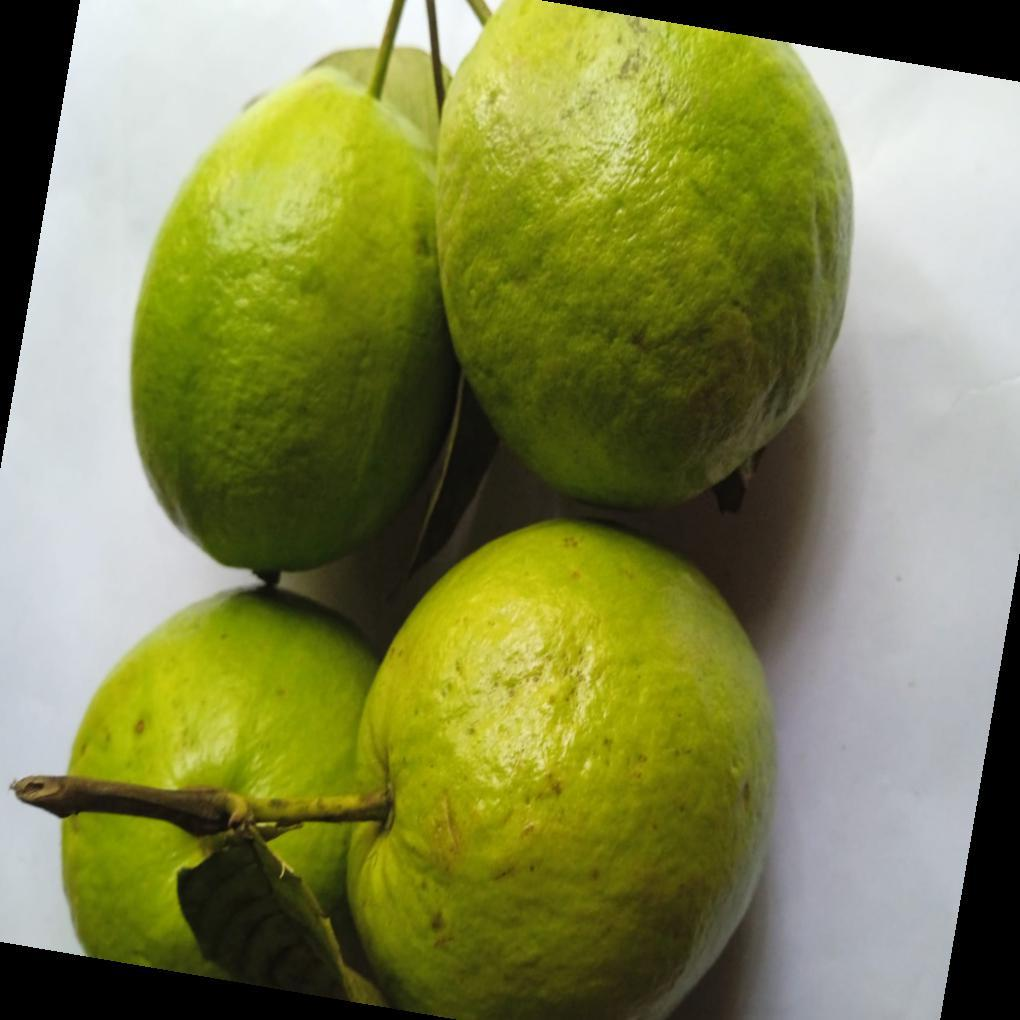FreshGuava: (12, 0, 854, 1020)
